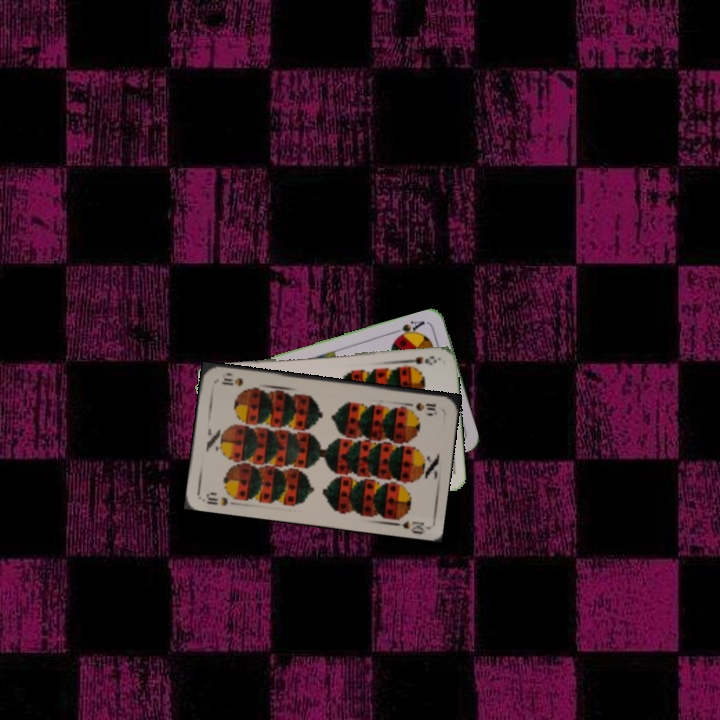S10: (402, 399, 439, 415), (202, 488, 230, 508)
S9: (400, 352, 441, 368)
SA: (390, 317, 427, 341)
